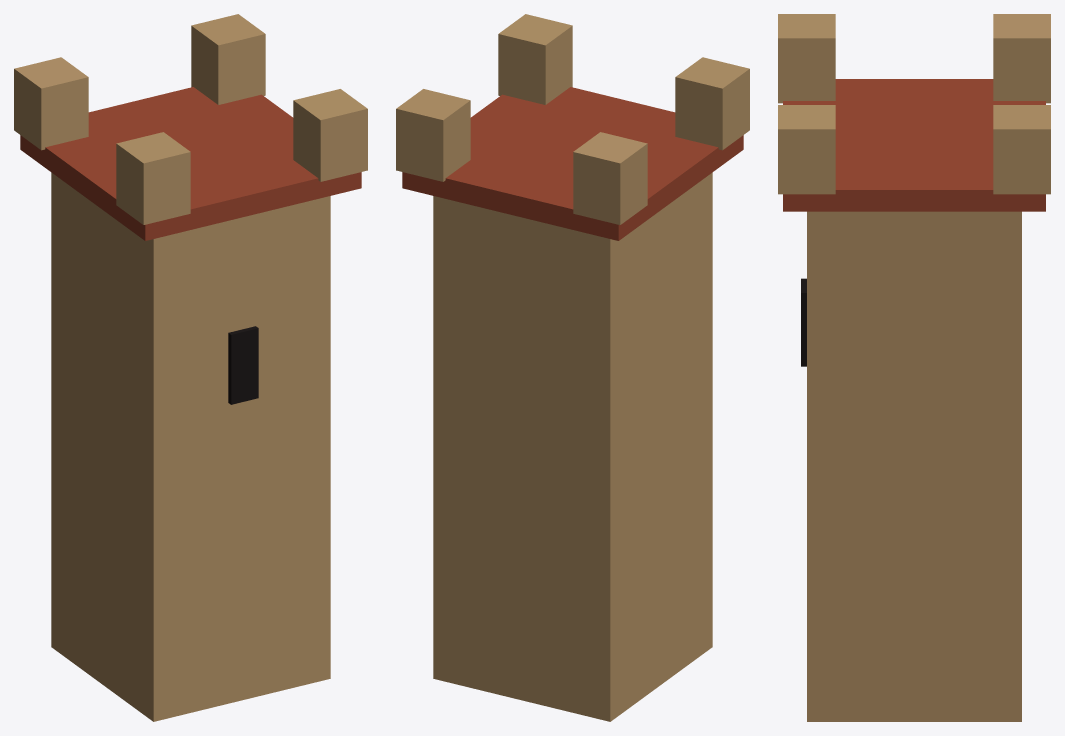
The model's file is cat_tower_broken.glb.
3 views of the same model, side by side, from view 1: azimuth 30°, elevation 25°; view 2: azimuth 150°, elevation 25°; view 3: azimuth 270°, elevation 25° (orthographic). The views are drawn at different scales.
Parts seen in each view (by area): view 1: cat_tower_piece1, cat_tower_piece3, cat_tower_piece0, cat_tower_piece8, cat_tower_piece4, cat_tower_piece7, cat_tower_piece2, cat_tower_piece9, cat_tower_piece5, cat_tower_piece6; view 2: cat_tower_piece1, cat_tower_piece0, cat_tower_piece9, cat_tower_piece5, cat_tower_piece3, cat_tower_piece8, cat_tower_piece7; view 3: cat_tower_piece5, cat_tower_piece8, cat_tower_piece1, cat_tower_piece4, cat_tower_piece6, cat_tower_piece7, cat_tower_piece9, cat_tower_piece3.
Part boxes in pixels (<box>): cat_tower_piece1: <box>51,405,329,721</box>; cat_tower_piece3: <box>83,109,227,504</box>; cat_tower_piece0: <box>51,190,169,531</box>; cat_tower_piece8: <box>190,89,367,322</box>; cat_tower_piece4: <box>240,302,330,678</box>; cat_tower_piece7: <box>130,99,279,287</box>; cat_tower_piece2: <box>184,218,306,617</box>; cat_tower_piece9: <box>14,57,131,245</box>; cat_tower_piece5: <box>143,14,293,132</box>; cat_tower_piece6: <box>228,248,330,388</box>; cat_tower_piece1: <box>433,309,712,721</box>; cat_tower_piece0: <box>515,186,712,524</box>; cat_tower_piece9: <box>484,132,683,361</box>; cat_tower_piece5: <box>396,89,513,443</box>; cat_tower_piece3: <box>512,75,749,396</box>; cat_tower_piece8: <box>470,14,675,124</box>; cat_tower_piece7: <box>496,57,749,228</box>; cat_tower_piece5: <box>902,105,1050,516</box>; cat_tower_piece8: <box>778,100,949,363</box>; cat_tower_piece1: <box>809,476,1021,721</box>; cat_tower_piece4: <box>801,287,953,721</box>; cat_tower_piece6: <box>807,347,986,554</box>; cat_tower_piece7: <box>778,14,993,176</box>; cat_tower_piece9: <box>915,14,1050,114</box>; cat_tower_piece3: <box>797,14,993,124</box>.
Size of the model in its own units: 1.14 by 2.79 by 1.14.
